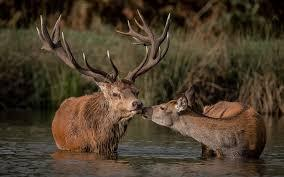Non_Gorille: (31, 10, 263, 164)
